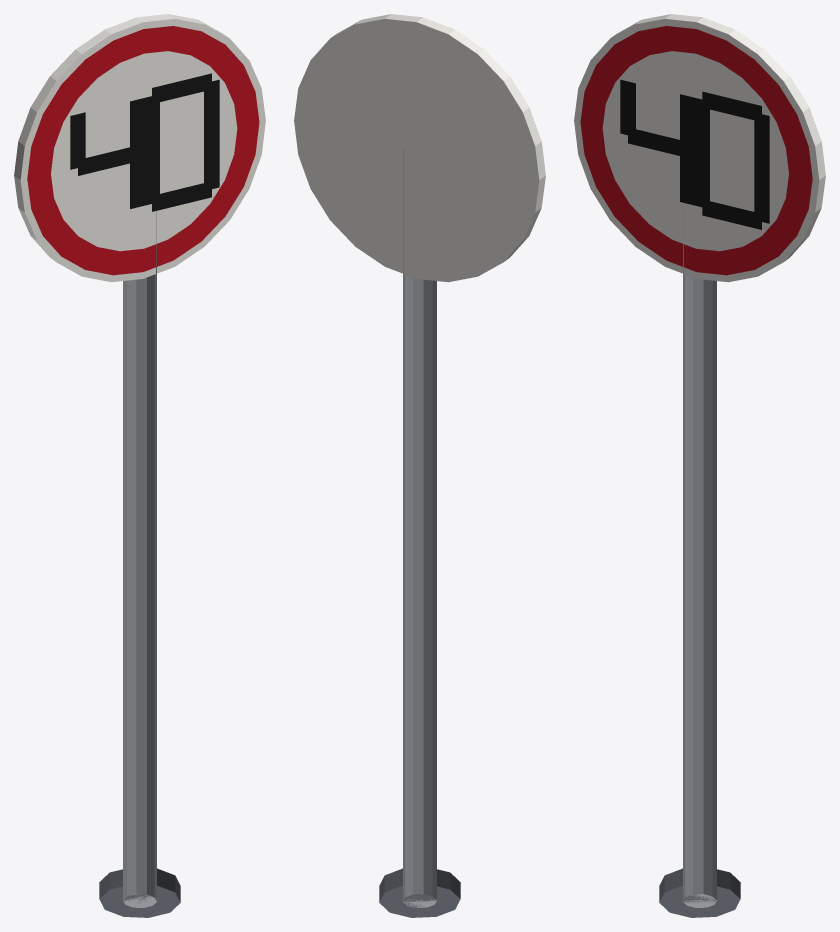
Rendered from sign-speed-40.glb.
3 renders of one model, left to right at view 1: azimuth 30°, elevation 25°; view 2: azimuth 150°, elevation 25°; view 3: azimuth 330°, elevation 25°, orthographic.
Parts seen in each view (by area): view 1: sign-speed-40; view 2: sign-speed-40; view 3: sign-speed-40.
Part boxes in pixels (bbox=[...]): sign-speed-40: bbox=[14, 14, 265, 917]; sign-speed-40: bbox=[294, 14, 545, 917]; sign-speed-40: bbox=[574, 14, 825, 917].
Bounding box in the file's own units: 0.75 × 2.58 × 0.2054.
